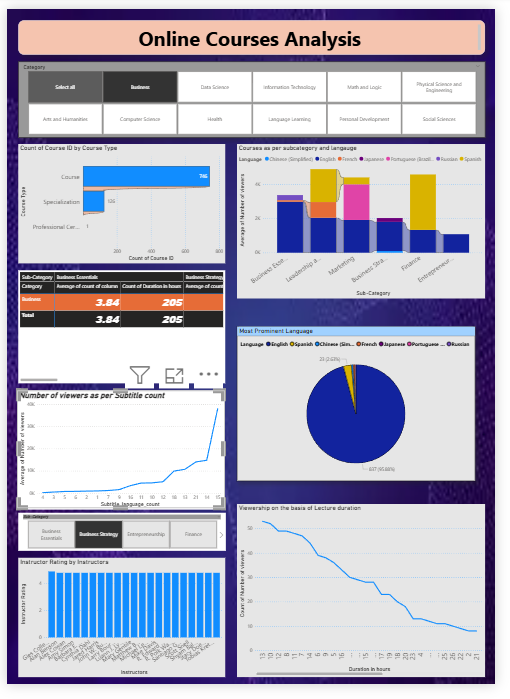

The dashboard page shown, as its layout file describes it:
{"tool":"powerbi","page":{"name":"Page 1","canvas":[1300,1800],"ordinal":0},"visuals":[{"type":"textbox","box":[30,30,1245,91.7],"z":0},{"type":"columnChart","title":"Courses as per subcategory and langauge","fields":{"Category":["Online_Courses.Sub-Category"],"Y":["Online_Courses.Number of viewers"],"Series":["Online_Courses.Language"]},"box":[613.3,360,661.7,411.7],"z":1000},{"type":"pieChart","title":"Most Prominent Language","fields":{"Category":["Online_Courses.Language"],"Y":["Online_Courses.Course ID"]},"box":[613.3,846.7,635,411.7],"z":2000},{"type":"lineChart","title":" Number of viewers as per Subtitle count","fields":{"Category":["Online_Courses.Subtitle_language_count"],"Y":["Online_Courses.Number of viewers"]},"box":[28,1015,552,318],"z":3000},{"type":"clusteredColumnChart","fields":{"Category":["Teachers.Instructors"],"Y":["Teachers.Instructor Rating"]},"box":[30,1461.7,551.7,318.3],"z":4000},{"type":"slicer","fields":{"Values":["Teachers.Sub-Category"]},"box":[28.3,1343.3,553.3,101.7],"z":5000},{"type":"lineChart","title":"Viewership on the basis of Lecture duration","fields":{"Category":["Online_Courses.Duration in hours"],"Y":["Online_Courses.Number of viewers"]},"box":[613.3,1318.3,661.7,461.7],"z":6000},{"type":"pivotTable","fields":{"Rows":["Online_Courses.Category"],"Values":["Online_Courses.count of column","Online_Courses.Duration in hours"],"Columns":["Online_Courses.Sub-Category"]},"box":[30,695,551.7,301.7],"z":7000},{"type":"slicer","fields":{"Values":["Online_Courses.Category"]},"box":[30,140,1245.7,202.9],"z":8000},{"type":"barChart","fields":{"Category":["Online_Courses.Course Type"],"Y":["Online_Courses.Course ID"]},"box":[30,360,551.7,318.3],"z":9000}]}

Visuals, with their boxes on the page's 1300x1800 design canvas (x1, y1, x2, y2). These are canvas units, not pixel positions in the 510x699 screenshot, which may show the page scaled, cropped or inside an application window:
textbox: 30, 30, 1275, 122
"Courses as per subcategory and langauge" columnChart: 613, 360, 1275, 772
"Most Prominent Language" pieChart: 613, 847, 1248, 1258
" Number of viewers as per Subtitle count" lineChart: 28, 1015, 580, 1333
clusteredColumnChart - Teachers.Instructors x Teachers.Instructor Rating: 30, 1462, 582, 1780
slicer - Teachers.Sub-Category: 28, 1343, 582, 1445
"Viewership on the basis of Lecture duration" lineChart: 613, 1318, 1275, 1780
pivotTable - Online_Courses.Category x Online_Courses.count of column: 30, 695, 582, 997
slicer - Online_Courses.Category: 30, 140, 1276, 343
barChart - Online_Courses.Course Type x Online_Courses.Course ID: 30, 360, 582, 678
